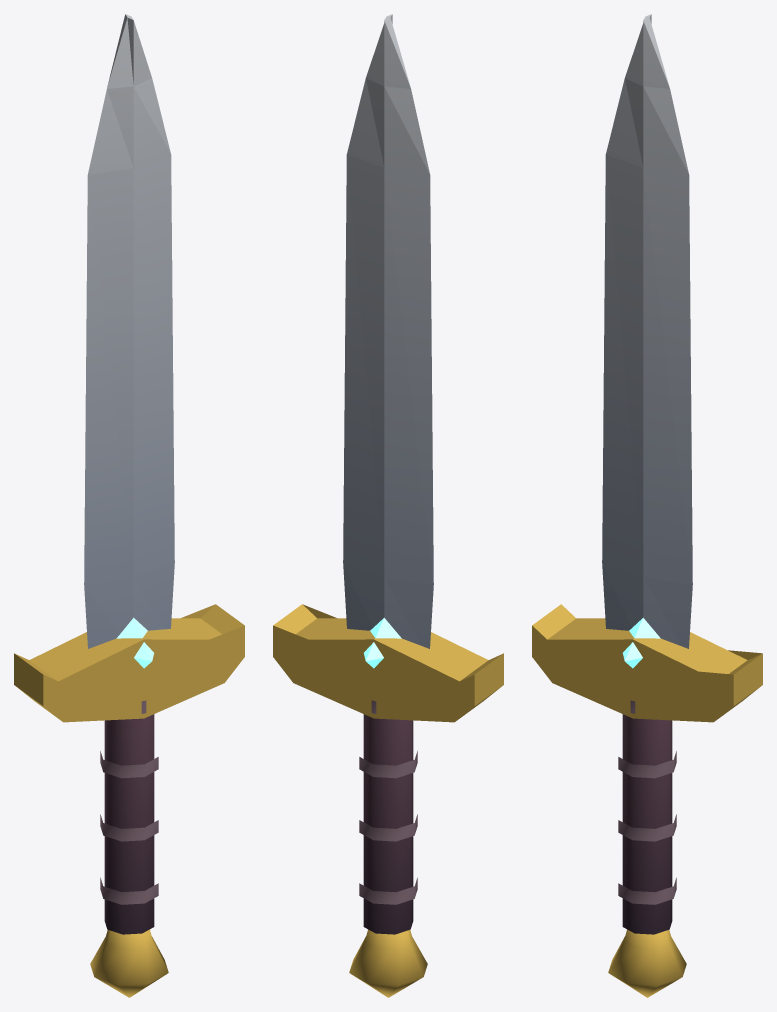
The model's file is shortsword.glb.
3 renders of one model, left to right at view 1: azimuth 30°, elevation 25°; view 2: azimuth 150°, elevation 25°; view 3: azimuth 330°, elevation 25°, orthographic.
Visible parts, largest first — view 1: shortsword; view 2: shortsword; view 3: shortsword.
Part boxes in pixels (left/top/right/bottom): shortsword: left=14, top=14, right=244, bottom=997; shortsword: left=273, top=14, right=503, bottom=997; shortsword: left=532, top=14, right=762, bottom=997.
Size of the model in its own units: 0.2 by 0.93 by 0.0784.
